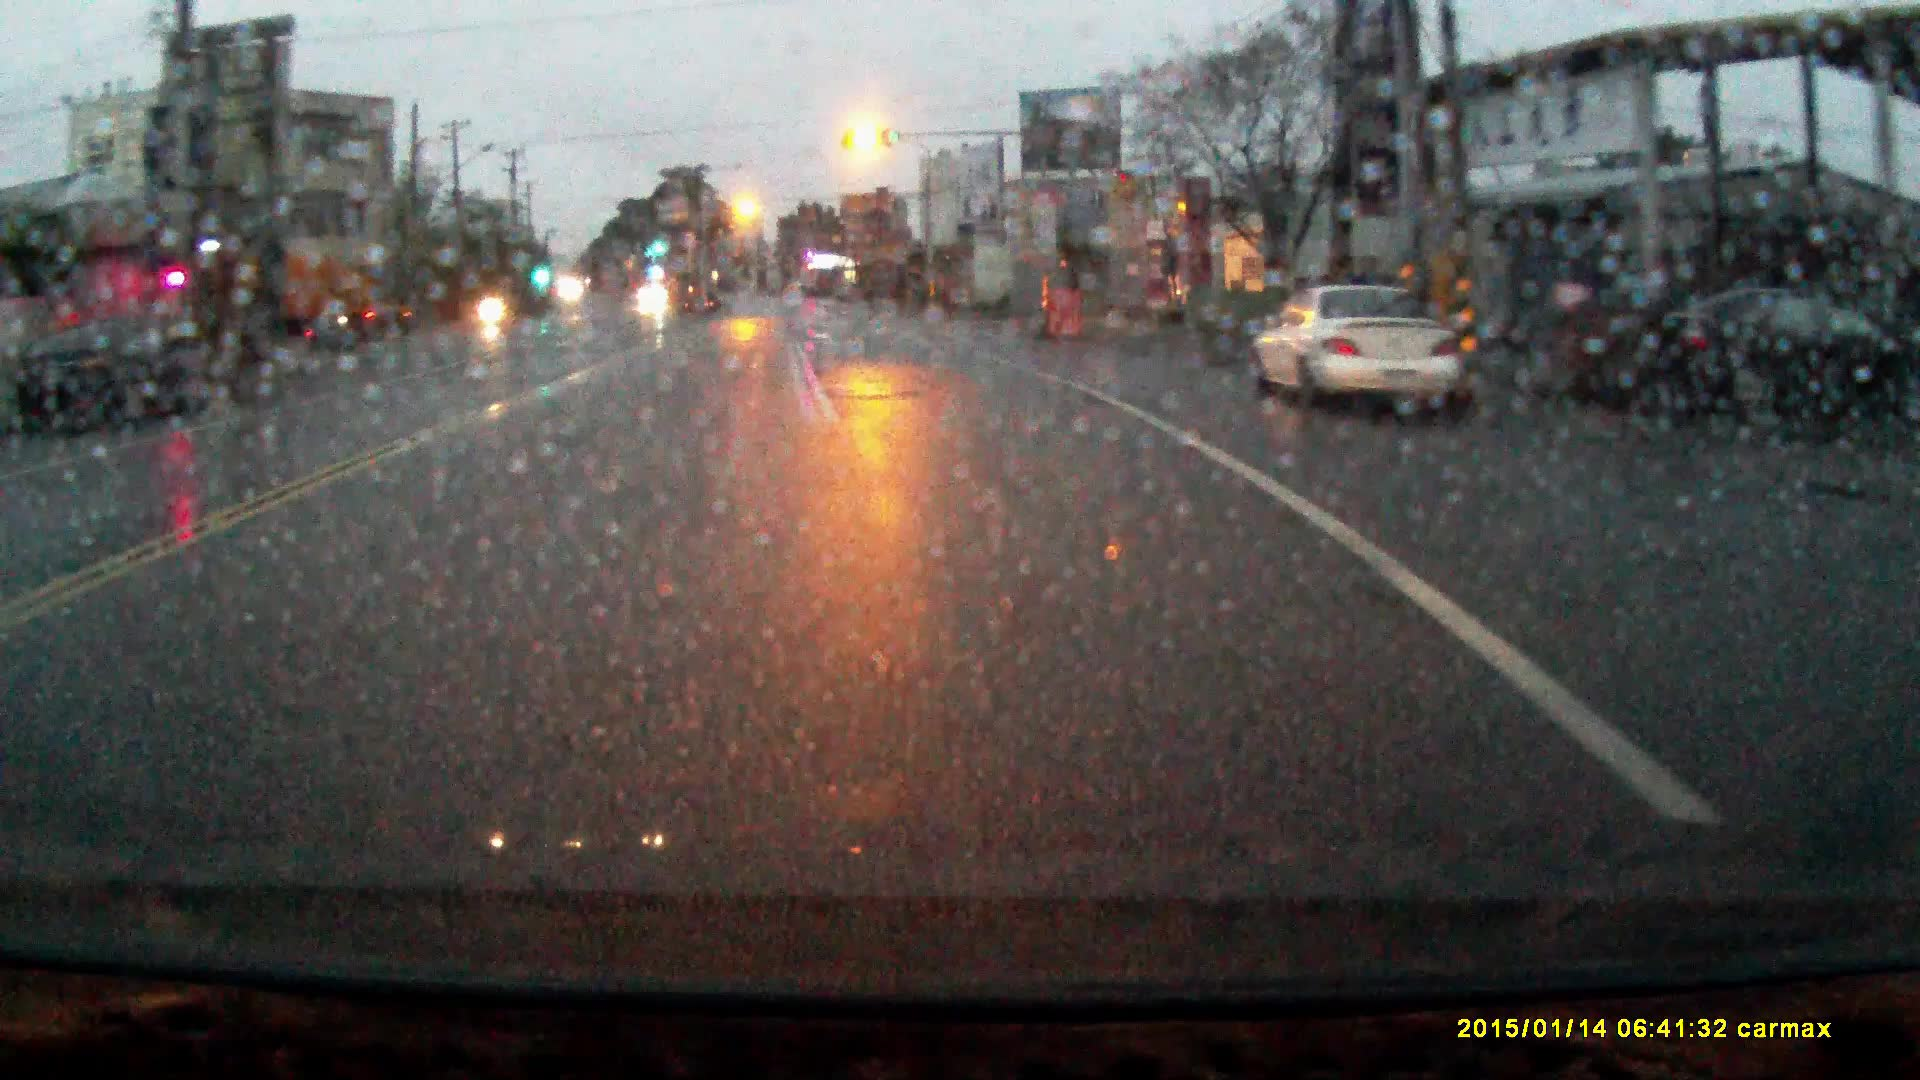rider: (473, 279, 506, 332)
vehicle: (1248, 290, 1467, 418), (219, 235, 412, 340), (38, 324, 217, 432), (638, 287, 669, 314)
